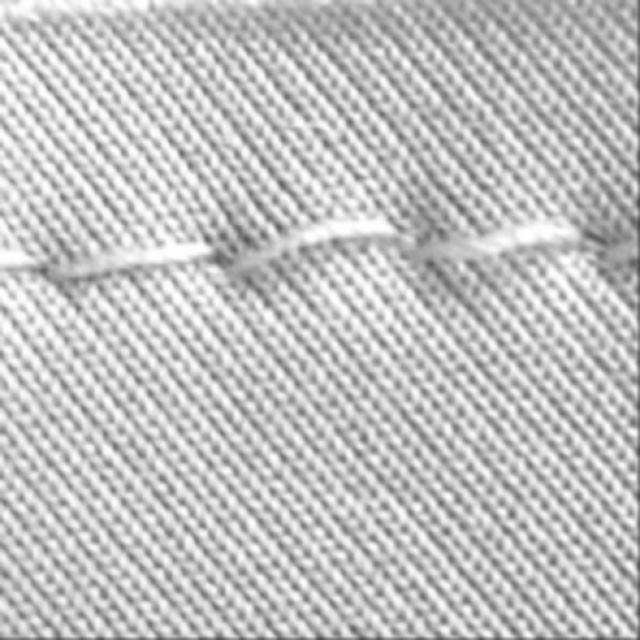stitch: (226, 219, 400, 274), (412, 218, 581, 261), (48, 242, 214, 279), (586, 234, 639, 268), (0, 248, 49, 272)
